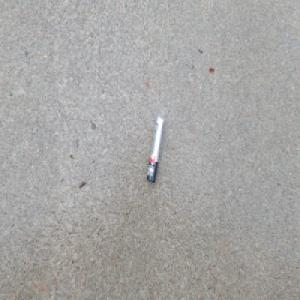Battery: (146, 115, 164, 185)
